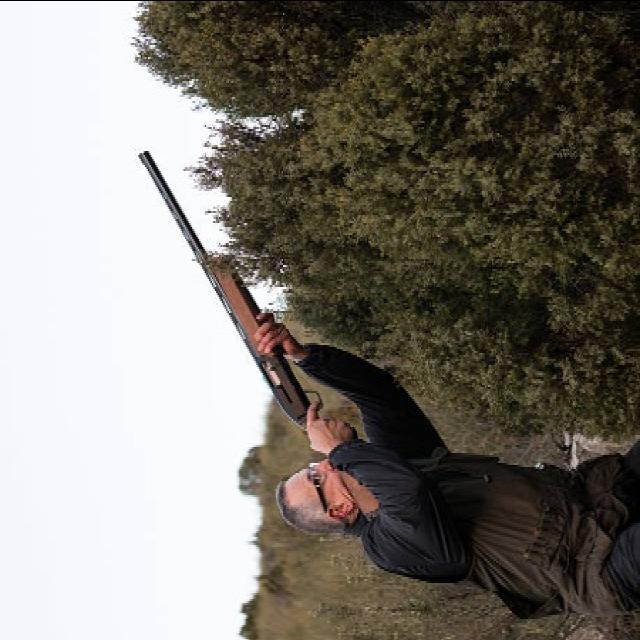rifle: (135, 151, 339, 453)
